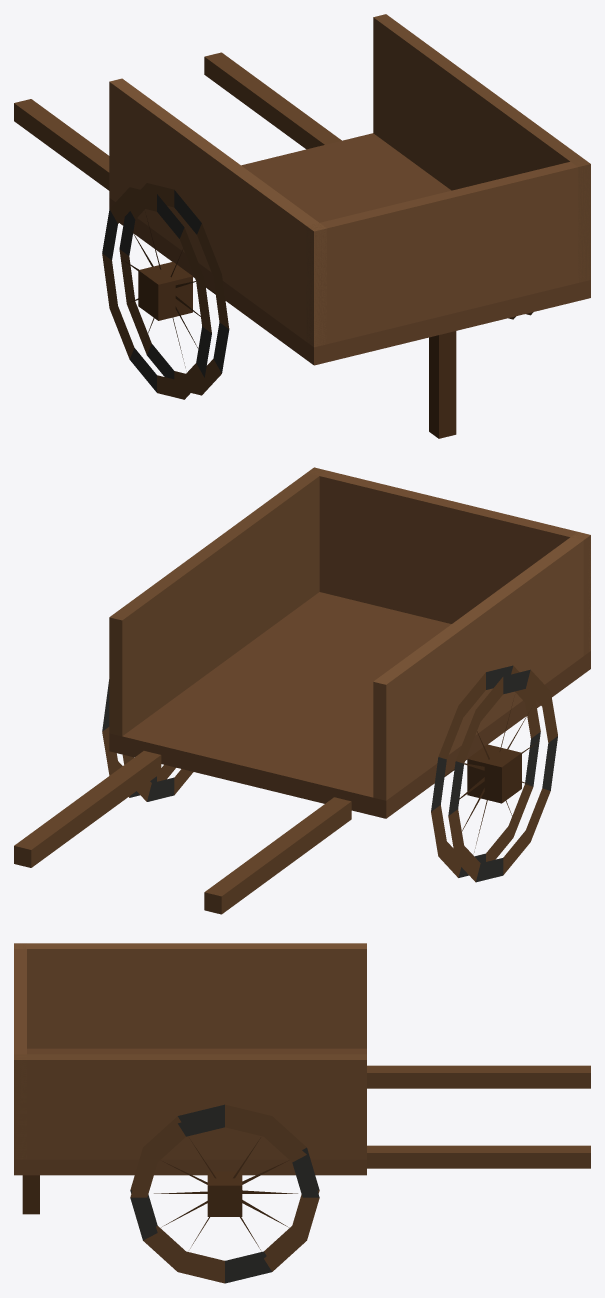
The model's file is cart.glb.
3 renders of one model, top to bottom at view 1: azimuth 30°, elevation 25°; view 2: azimuth 150°, elevation 25°; view 3: azimuth 270°, elevation 25°, orthographic. The views are drawn at different scales.
Visible parts, largest first — view 1: cart; view 2: cart; view 3: cart.
Part boxes in pixels (<box>): cart: <box>14,14,590,438</box>; cart: <box>14,467,590,914</box>; cart: <box>14,943,590,1283</box>.
Bounding box in the file's own units: 0.84 × 0.536 × 1.34.
